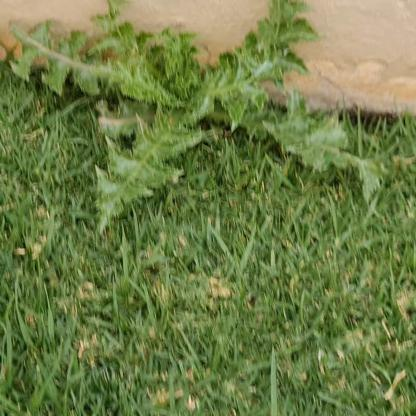Weeds: (9, 0, 398, 241)
